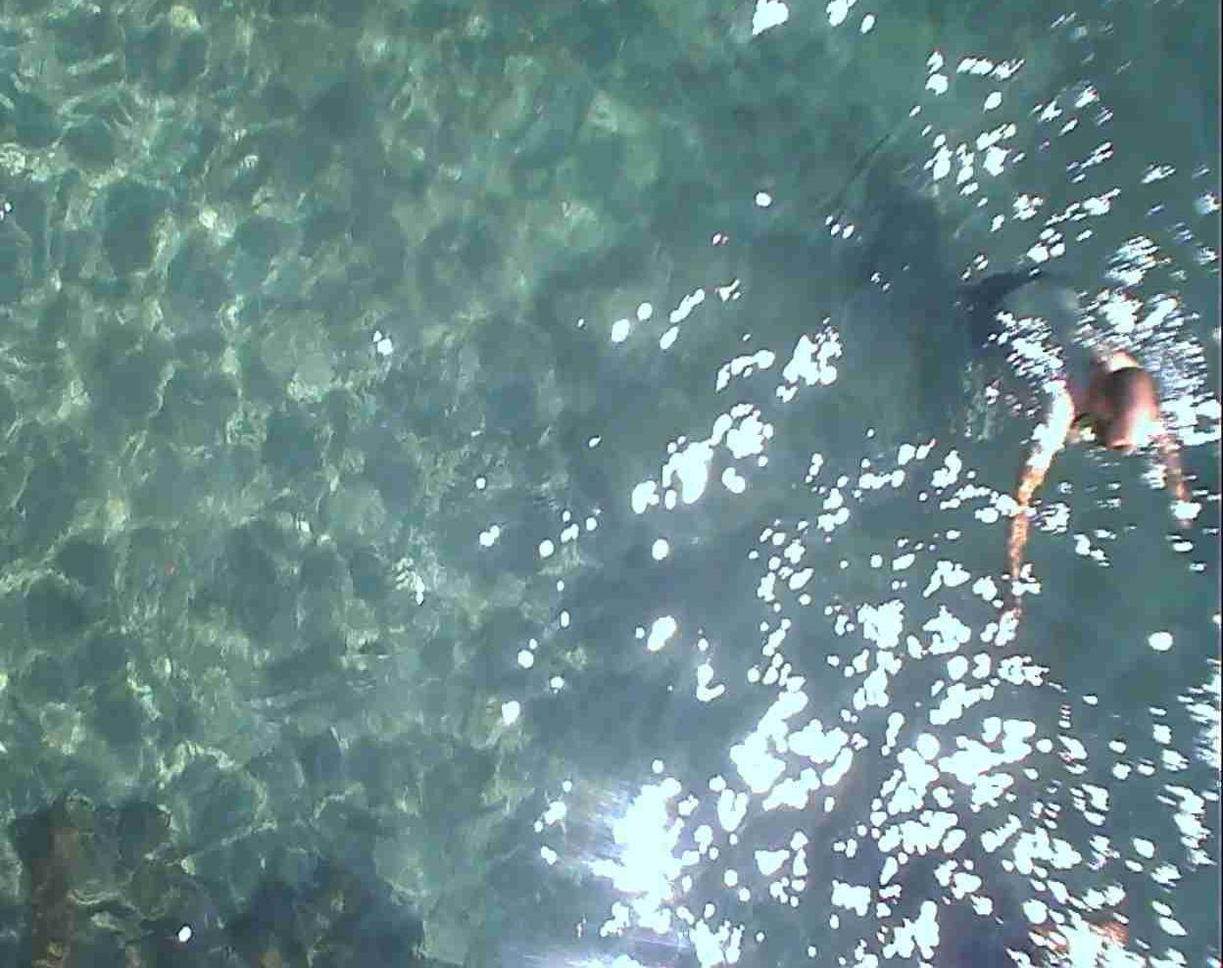swimmer: (974, 236, 1199, 594)
